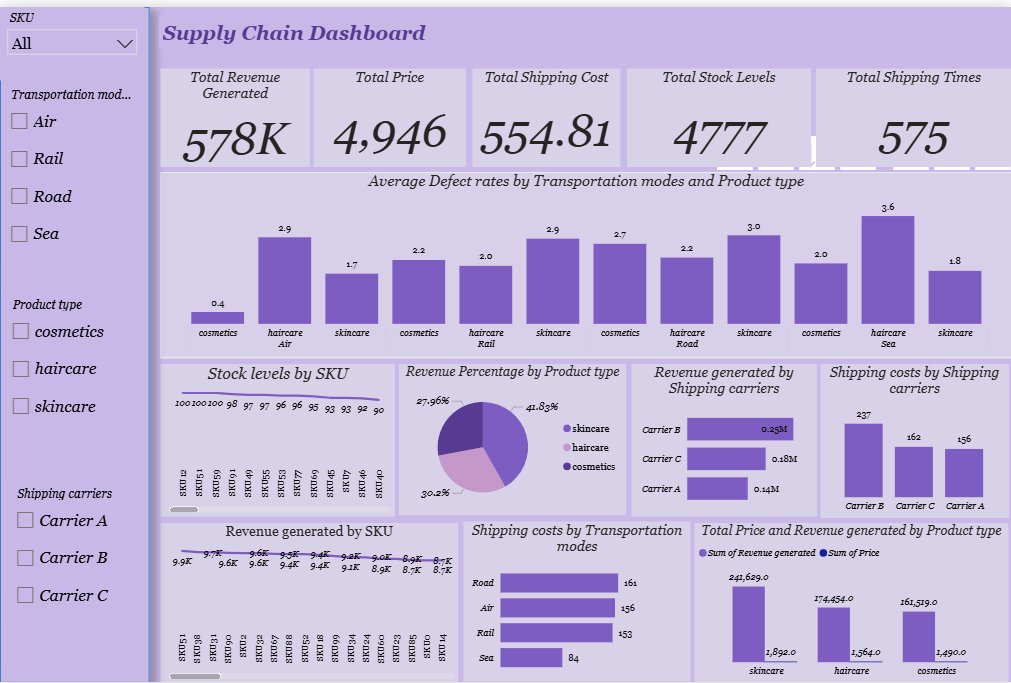

Layout of this report page (visuals, bound fields, positions):
{"tool":"powerbi","page":{"name":"Page 1","canvas":[1350,900],"ordinal":0},"visuals":[{"type":"clusteredColumnChart","title":"Total Price and Revenue generated by Product type","fields":{"Category":["supply_chain_data.Product type"],"Y":["Sum(supply_chain_data.Price)","Sum(supply_chain_data.Revenue generated)"]},"box":[926.8,687.6,418.6,213.3],"z":0},{"type":"pieChart","title":"Revenue generated by Product type","fields":{"Category":["supply_chain_data.Product type"],"Y":["Sum(supply_chain_data.Revenue generated)"]},"box":[532.2,476.4,303,201.3],"z":1000},{"type":"barChart","title":"Revenue generated by Shipping carriers","fields":{"Category":["supply_chain_data.Shipping carriers"],"Y":["Sum(supply_chain_data.Revenue generated)"]},"box":[841.1,476.4,247.1,203.3],"z":2000},{"type":"lineChart","title":"Revenue generated by SKU","fields":{"Category":["supply_chain_data.SKU"],"Y":["Sum(supply_chain_data.Revenue generated)"]},"box":[213.3,687.6,396.6,213.3],"z":3000},{"type":"lineChart","title":"Stock levels by SKU","fields":{"Category":["supply_chain_data.SKU"],"Y":["Sum(supply_chain_data.Stock levels)"]},"box":[213.3,476.4,312.9,203.3],"z":4000},{"type":"clusteredColumnChart","title":"Shipping costs by Shipping carriers","fields":{"Category":["supply_chain_data.Shipping carriers"],"Y":["Sum(supply_chain_data.Shipping costs)"]},"box":[1094.2,476.4,251.1,205.3],"z":5000},{"type":"barChart","title":"Shipping costs by Transportation modes","fields":{"Category":["supply_chain_data.Transportation modes"],"Y":["Sum(supply_chain_data.Shipping costs)"]},"box":[617.9,686.7,303,213.3],"z":6000},{"type":"clusteredColumnChart","title":"Average Defect rates by Transportation modes and Product type","fields":{"Category":["supply_chain_data.Transportation modes","supply_chain_data.Product type"],"Y":["Avg(supply_chain_data.Defect rates)"]},"box":[213.3,219.2,1136.1,249.1],"z":7000},{"type":"shape","box":[0,0,199.3,900.9],"z":8000},{"type":"slicer","fields":{"Values":["supply_chain_data.Transportation modes"]},"box":[1.8,101.8,194.7,236.8],"z":9000},{"type":"slicer","fields":{"Values":["supply_chain_data.Product type"]},"box":[3.5,382.5,189.5,229.8],"z":10000},{"type":"slicer","fields":{"Values":["supply_chain_data.SKU"]},"box":[0,0,193,98.2],"z":11000},{"type":"slicer","fields":{"Values":["supply_chain_data.Shipping carriers"]},"box":[10.5,633.3,170.2,240.4],"z":12000},{"type":"card","title":"Total Revenue Generated","fields":{"Values":["Sum(supply_chain_data.Revenue generated)"]},"box":[213.3,81.7,199.3,131.5],"z":13000},{"type":"card","title":"Total Shipping Cost","fields":{"Values":["Sum(supply_chain_data.Shipping costs)"]},"box":[629.8,81.7,197.3,131.5],"z":14000},{"type":"card","title":"Total Price","fields":{"Values":["Sum(supply_chain_data.Price)"]},"box":[418.6,81.7,203.3,131.5],"z":15000},{"type":"card","title":"Total Stock Levels","fields":{"Values":["Sum(supply_chain_data.Stock levels)"]},"box":[835.1,81.7,245.2,131.5],"z":16000},{"type":"card","title":"Total Shipping Times","fields":{"Values":["Sum(supply_chain_data.Shipping times)"]},"box":[1088.2,81.7,261.1,131.5],"z":17000},{"type":"textbox","box":[212.9,14.5,396.8,41.9],"z":17001}]}

Visuals, with their boxes in screenshot pixels (x1, y1, x2, y2), scaled from the page's 1350x900 canvas onto the 1011x683 screenshot:
"Total Price and Revenue generated by Product type" clusteredColumnChart: {"x1": 694, "y1": 522, "x2": 1008, "y2": 682}
"Revenue generated by Product type" pieChart: {"x1": 399, "y1": 362, "x2": 625, "y2": 514}
"Revenue generated by Shipping carriers" barChart: {"x1": 630, "y1": 362, "x2": 815, "y2": 516}
"Revenue generated by SKU" lineChart: {"x1": 160, "y1": 522, "x2": 457, "y2": 682}
"Stock levels by SKU" lineChart: {"x1": 160, "y1": 362, "x2": 394, "y2": 516}
"Shipping costs by Shipping carriers" clusteredColumnChart: {"x1": 819, "y1": 362, "x2": 1007, "y2": 517}
"Shipping costs by Transportation modes" barChart: {"x1": 463, "y1": 521, "x2": 690, "y2": 682}
"Average Defect rates by Transportation modes and Product type" clusteredColumnChart: {"x1": 160, "y1": 166, "x2": 1010, "y2": 355}
shape: {"x1": 0, "y1": 0, "x2": 149, "y2": 682}
slicer - supply_chain_data.Transportation modes: {"x1": 1, "y1": 77, "x2": 147, "y2": 257}
slicer - supply_chain_data.Product type: {"x1": 3, "y1": 290, "x2": 145, "y2": 465}
slicer - supply_chain_data.SKU: {"x1": 0, "y1": 0, "x2": 145, "y2": 75}
slicer - supply_chain_data.Shipping carriers: {"x1": 8, "y1": 481, "x2": 135, "y2": 663}
"Total Revenue Generated" card: {"x1": 160, "y1": 62, "x2": 309, "y2": 162}
"Total Shipping Cost" card: {"x1": 472, "y1": 62, "x2": 619, "y2": 162}
"Total Price" card: {"x1": 313, "y1": 62, "x2": 466, "y2": 162}
"Total Stock Levels" card: {"x1": 625, "y1": 62, "x2": 809, "y2": 162}
"Total Shipping Times" card: {"x1": 815, "y1": 62, "x2": 1010, "y2": 162}
textbox: {"x1": 159, "y1": 11, "x2": 457, "y2": 43}
